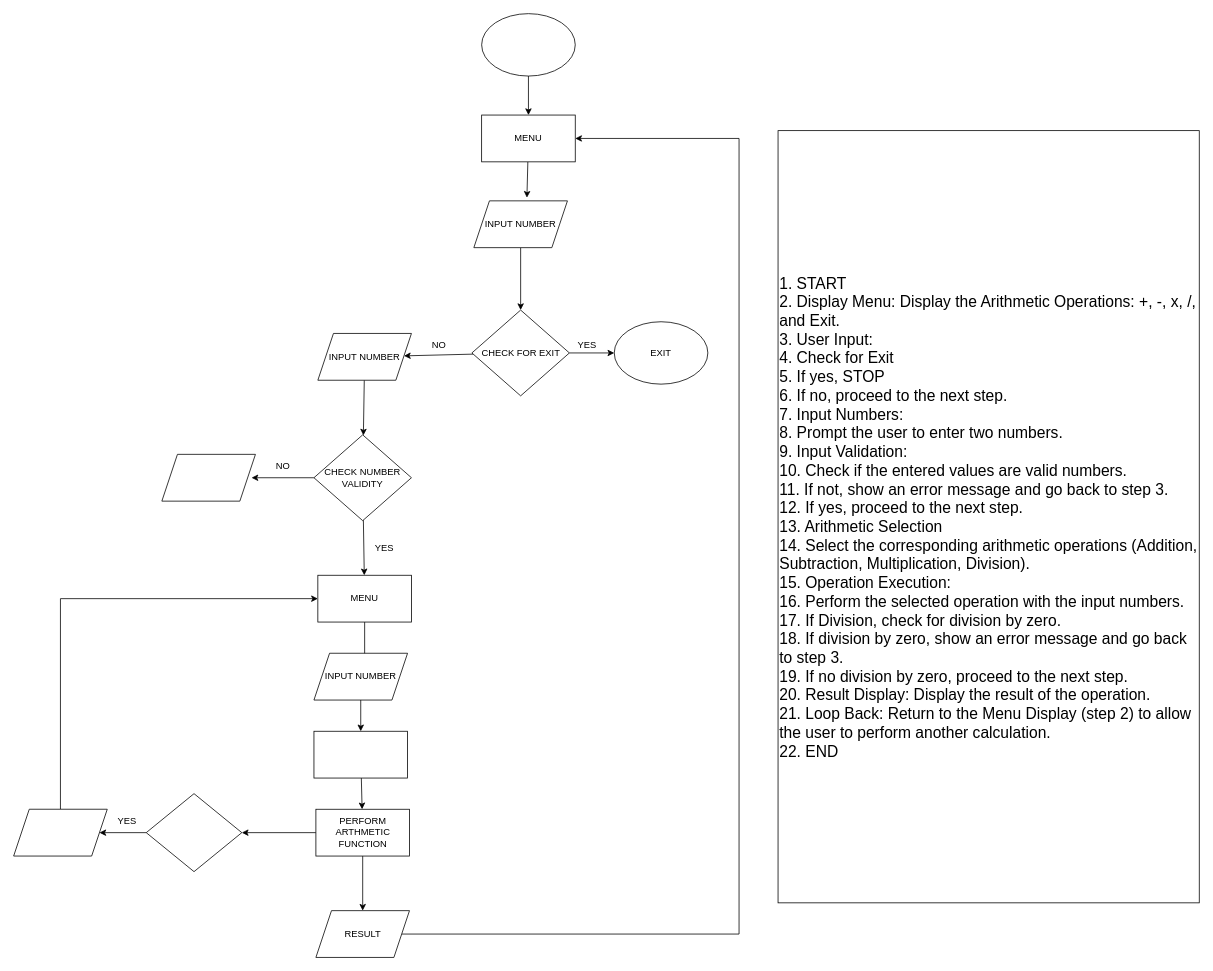
Some shapes in this 1213 by 971 pixel diagram are drawn without their labels. Here are the shapes that lost their labels. From the top down, the centre of each, then its label:
At (x=528, y=44): "START".
At (x=208, y=477): "DISPLAY ERROR".
At (x=360, y=754): "ARTHMETIC FUNCTION".
At (x=60, y=832): "ERROR".
At (x=193, y=832): "CHECK DIVISION BY 0".
